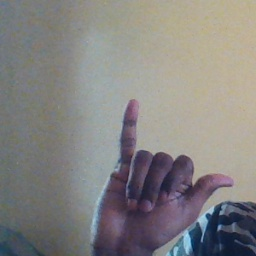J: (88, 98, 232, 246)
